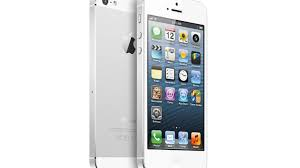iphone: (88, 1, 142, 168)
iphone4: (85, 1, 209, 168), (132, 1, 210, 168)
